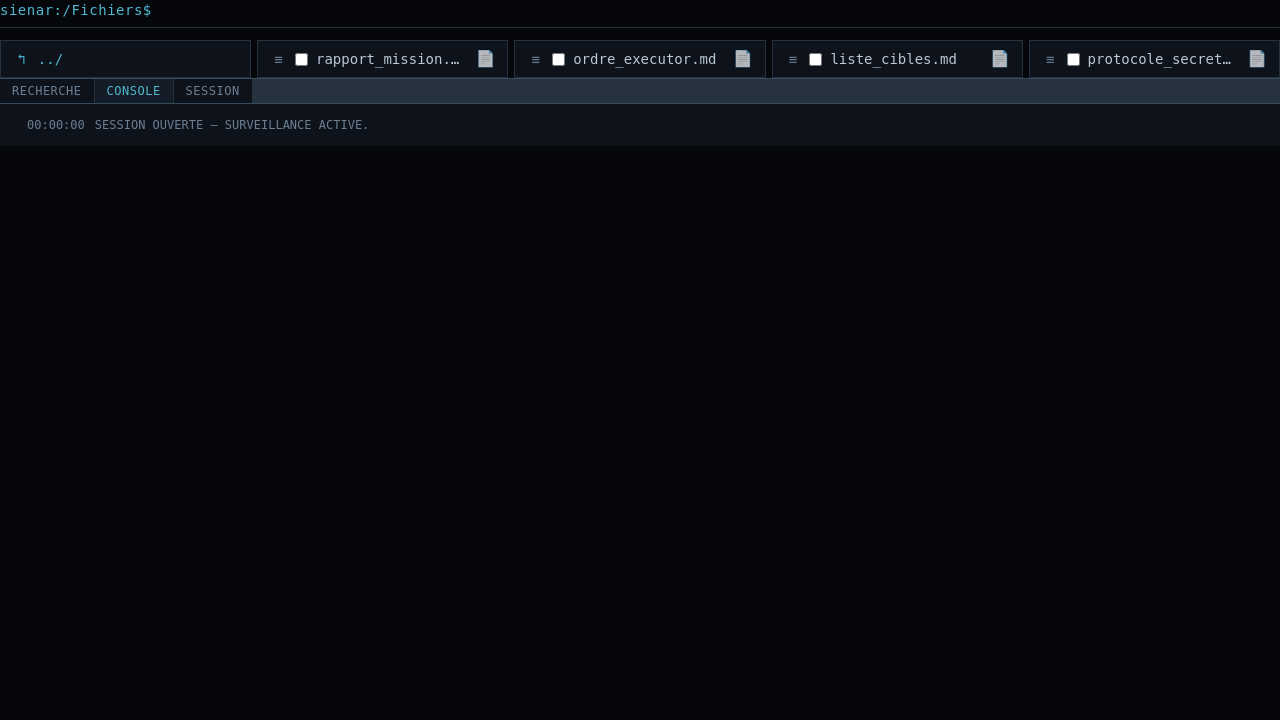
Test: FileExplorer.vue - Feature 3: Ouvrir les fichiers pour consultation › devrait ouvrir un fichier en double-cliquant dessus
The image size is (1280, 720).
Double-click the element with class "file-item" showing "≡ rapport_mission.md 📄" at (383, 59), box [257, 40, 508, 78]
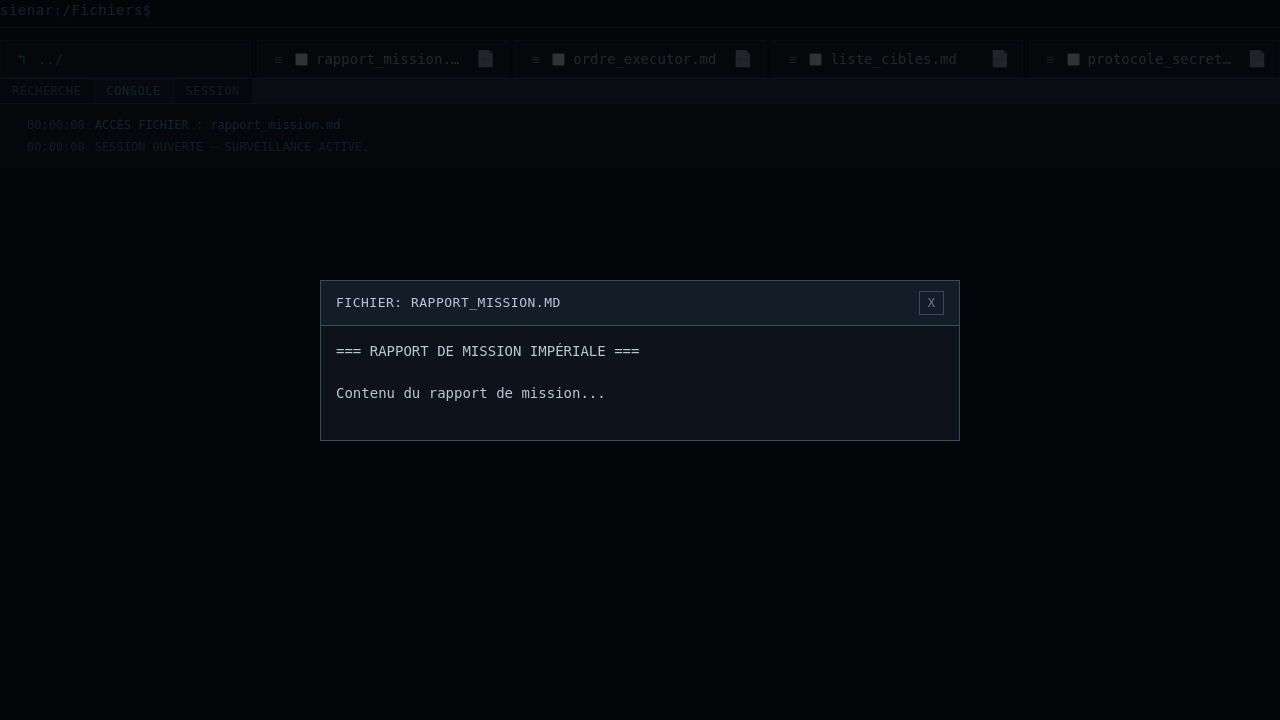
Check: the text "rapport_mission.md" is shown, box [316, 48, 467, 70]
Check: the element with class "file-modal" is shown, box [320, 280, 960, 440]
